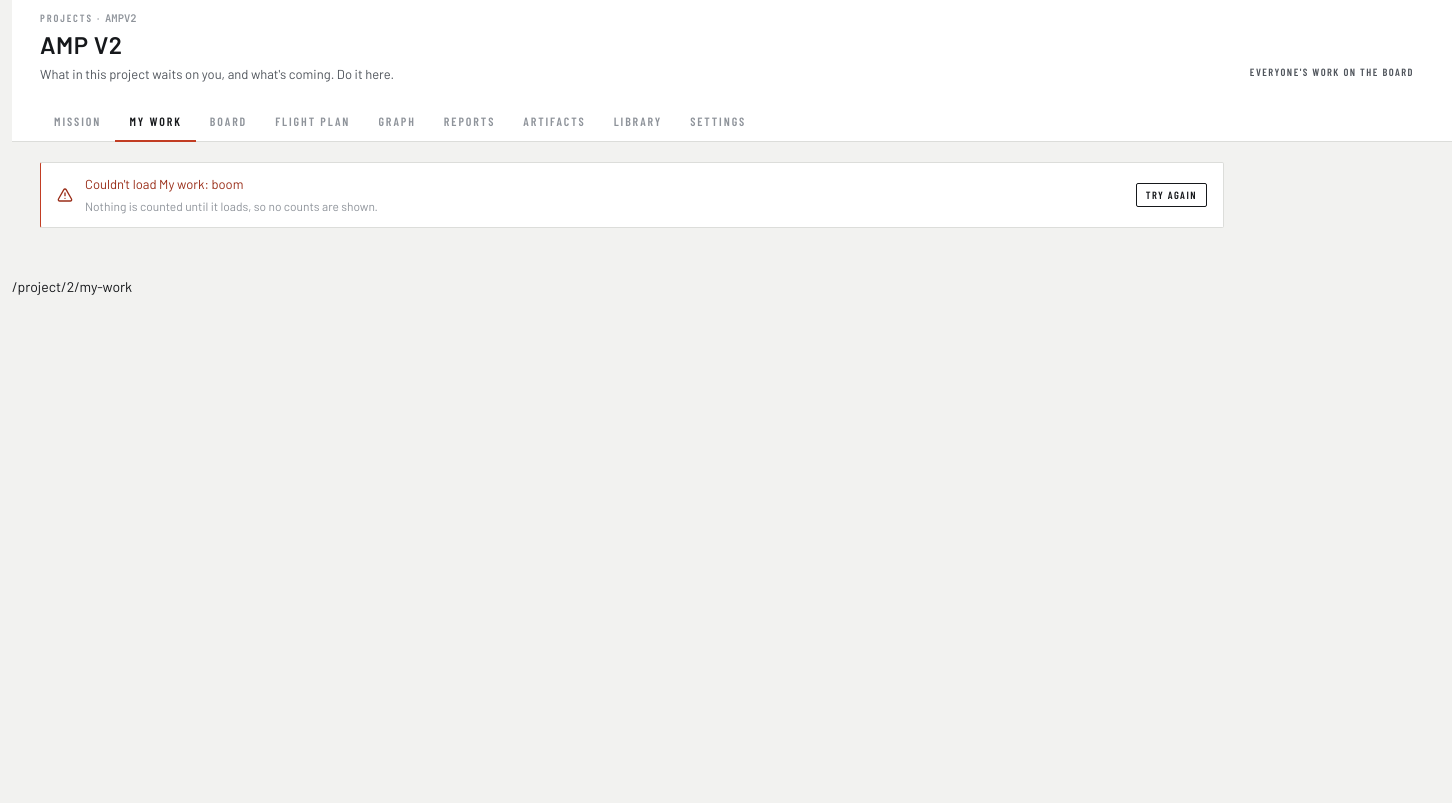
Test: My work tab: states › shows an error with Try again
Check: the message shows "Couldn't load My work: boom", box [40, 162, 1224, 228]
Check: the message shows "no counts are shown", box [85, 199, 378, 213]
What coordinates should you click on to do the following:
click the button "Try again"
I would click on:
 (1171, 195)
Its box is [1136, 183, 1207, 207].
(page scrolled)
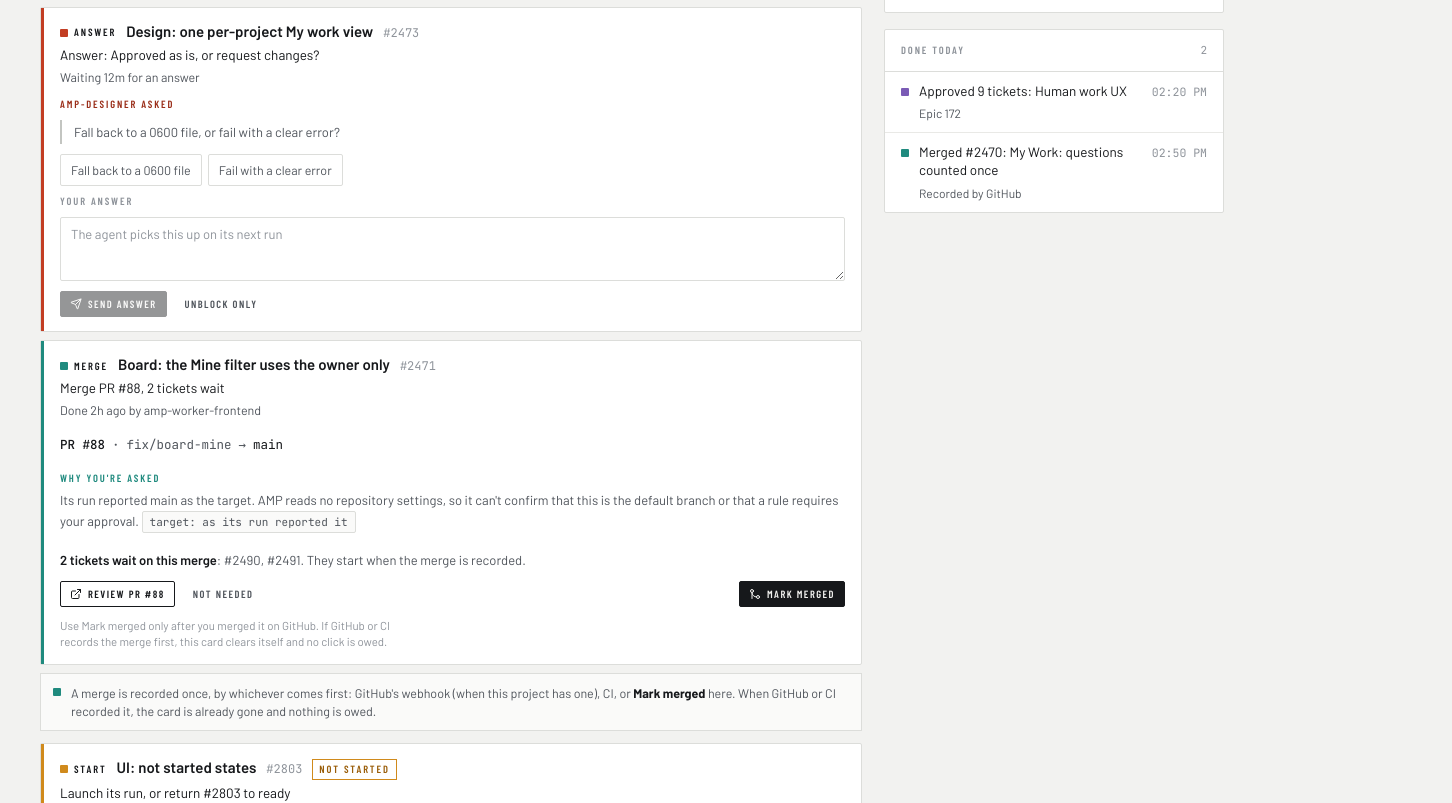
Check: the message "Couldn't load My work: boom Nothing is counted until it loads, so no counts are" is gone
